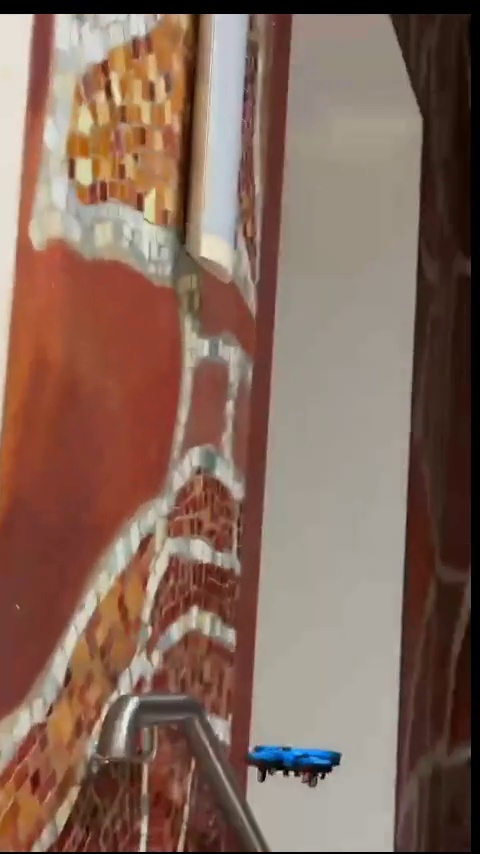drone: (244, 742, 344, 785)
